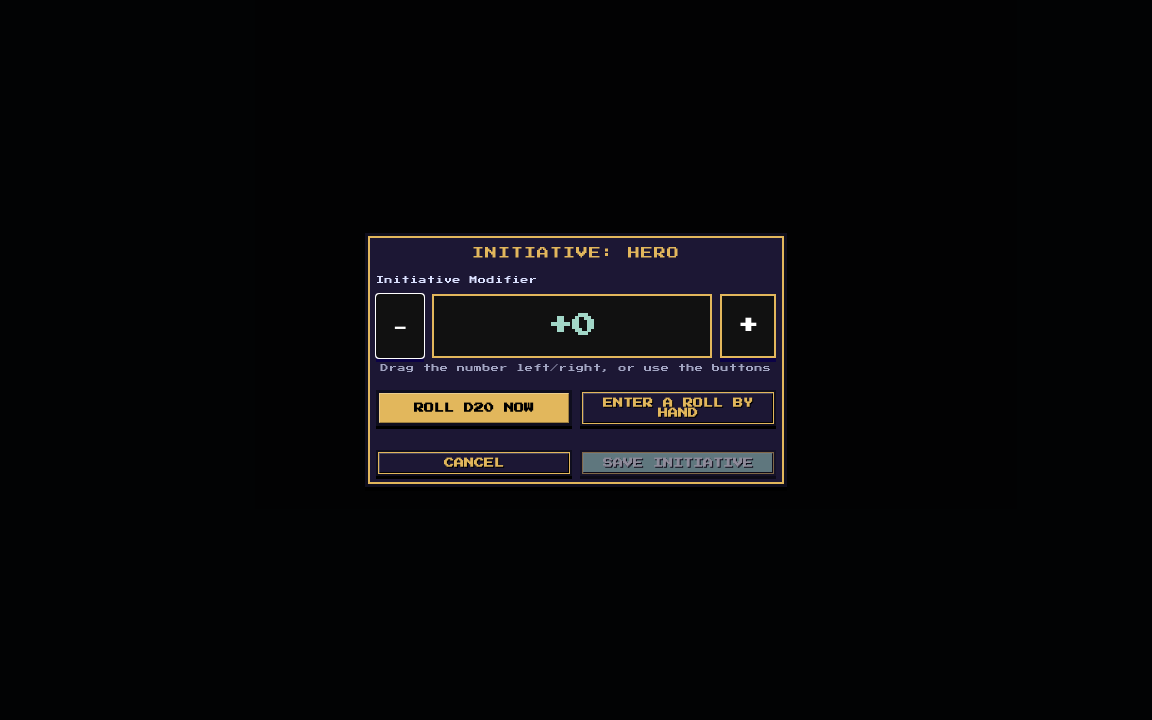
Test case: InitiativeModal — only its own save › another request in flight neither disables this dialog nor closes it when it lands
This screenshot has width=1152, height=720.
Click the button "Enter a roll by hand".
click(678, 408)  # box [580,390,776,426]
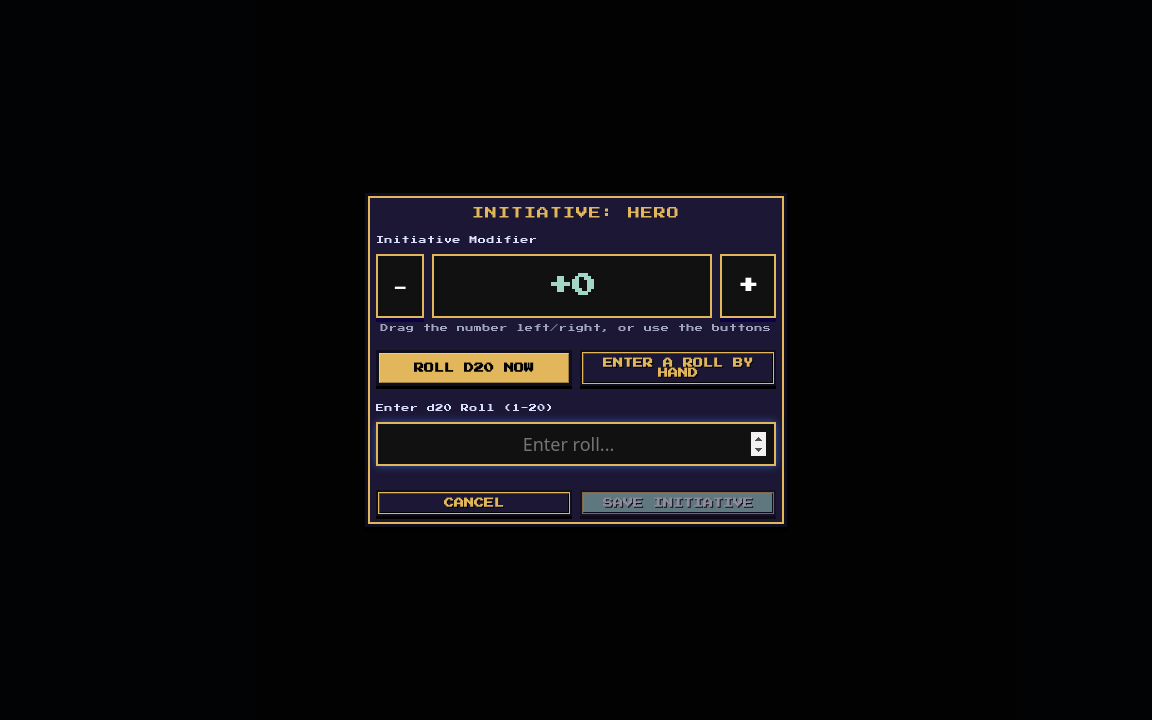
Type "12" into the number field.
click(576, 444); type("12")  # box [376,422,776,466]
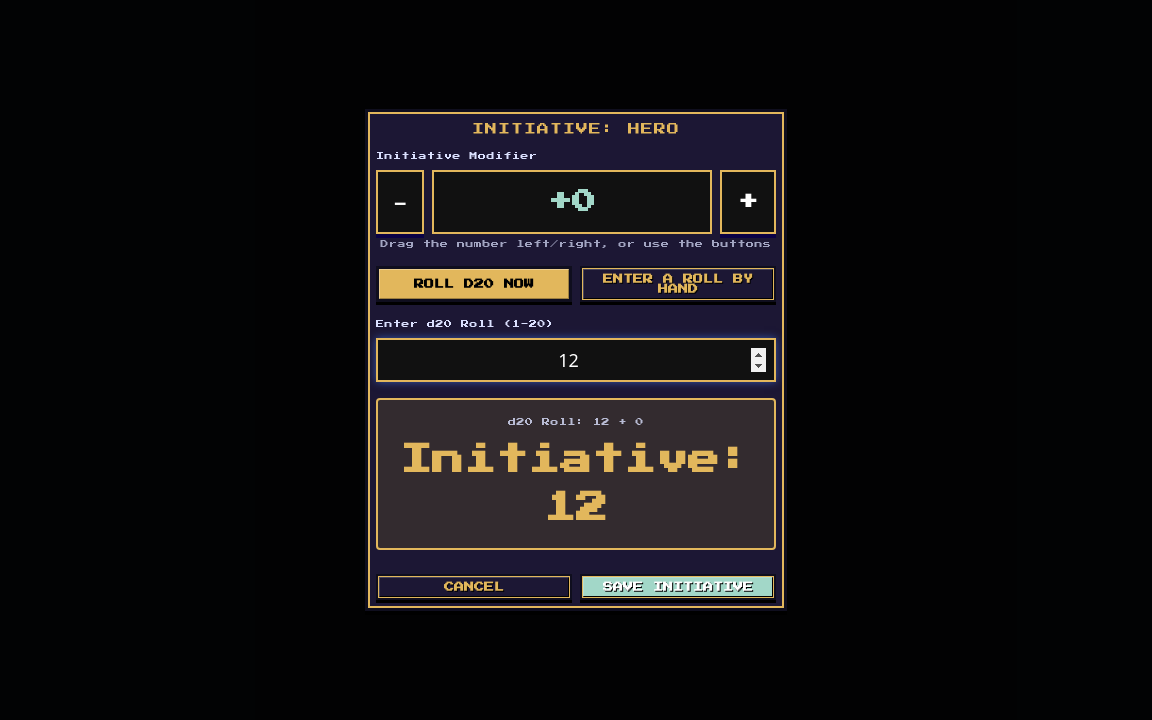
expect the button "Save initiative" is enabled: met, box [580,574,776,600]
